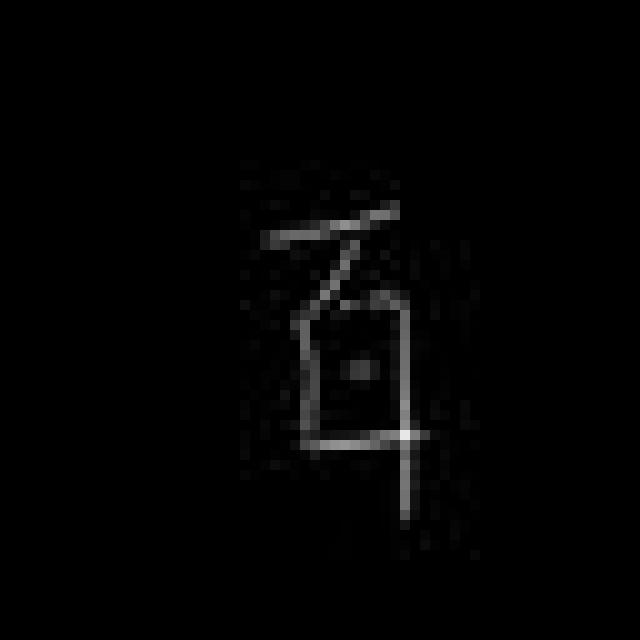100 -a hundred-: (243, 200, 431, 528)
